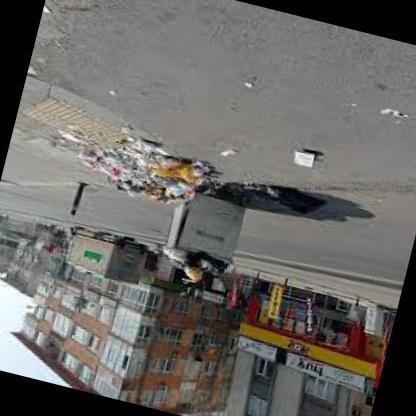Garbage: (80, 122, 227, 217), (117, 144, 216, 202), (226, 177, 332, 223), (170, 250, 230, 298), (296, 143, 331, 176)
